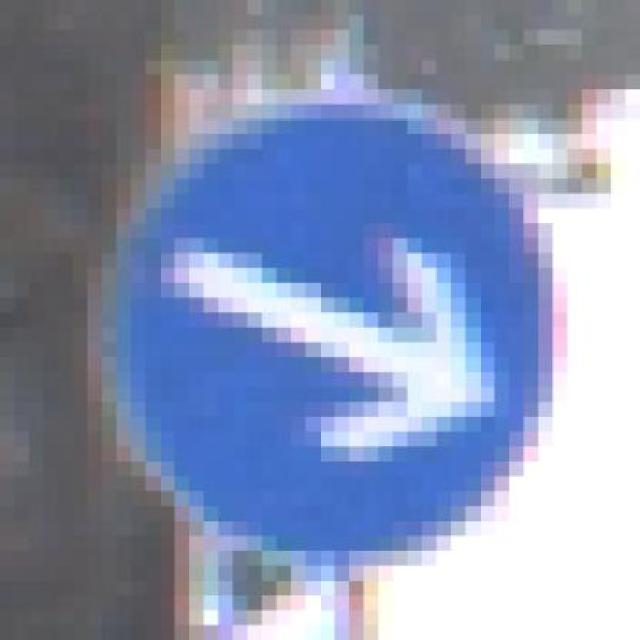Keep-Right: (58, 89, 582, 580)
